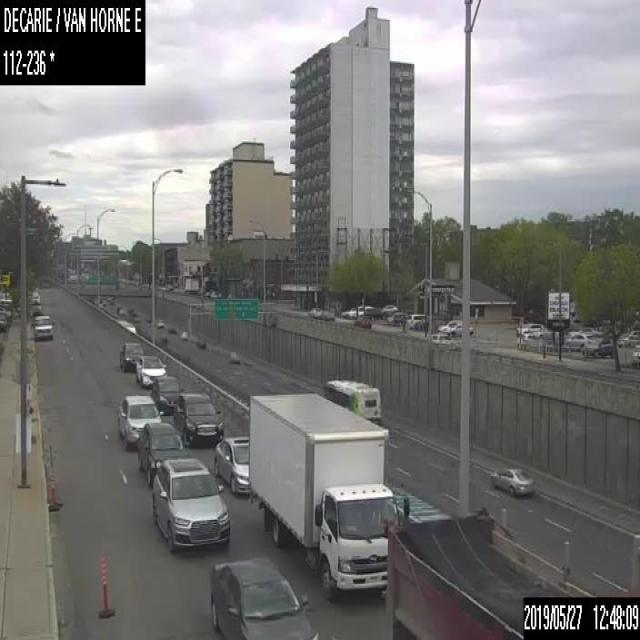bus: (324, 379, 381, 424)
construction: (43, 442, 60, 510), (95, 552, 113, 616)
vehicle: (249, 392, 410, 596), (386, 505, 574, 639), (208, 554, 319, 638), (152, 457, 230, 552), (136, 421, 189, 485), (172, 392, 224, 445), (117, 394, 163, 450), (212, 435, 250, 495), (182, 444, 222, 485), (490, 466, 536, 498), (150, 375, 183, 414), (134, 355, 167, 387), (118, 341, 145, 371), (581, 338, 613, 356), (31, 314, 52, 339), (406, 313, 428, 329), (516, 322, 543, 335), (563, 332, 588, 346), (113, 320, 135, 334), (448, 323, 472, 335), (435, 320, 457, 332), (617, 334, 639, 345), (184, 277, 198, 294), (353, 314, 371, 326), (629, 344, 639, 364), (578, 326, 596, 337), (319, 308, 335, 320), (226, 349, 238, 363), (155, 335, 167, 349), (30, 288, 40, 304), (195, 335, 207, 348), (30, 304, 43, 316), (341, 306, 353, 318), (349, 305, 362, 316), (391, 314, 405, 324), (308, 307, 321, 317), (177, 327, 187, 339), (154, 317, 162, 327), (210, 290, 218, 298), (167, 326, 176, 333), (202, 290, 210, 296)
